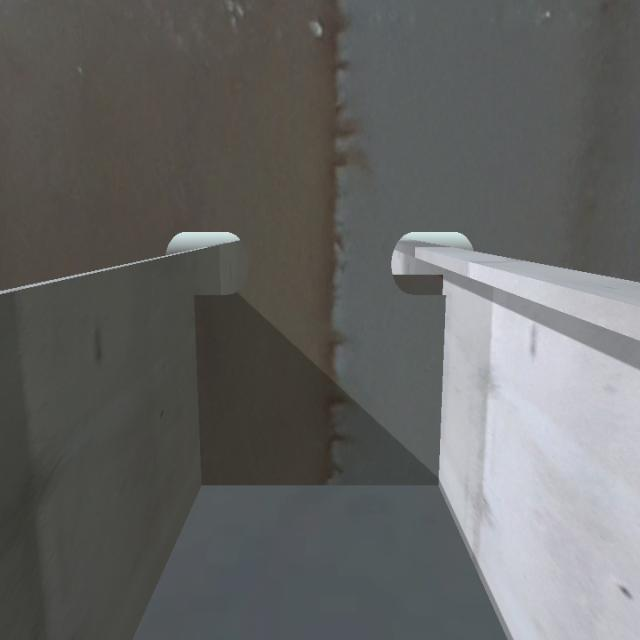fillet_yong_jeop_jang: (200, 472, 441, 492)
longi_yong_jeop_jang: (192, 293, 218, 479), (438, 268, 450, 490)
plate_behind: (396, 277, 445, 295)
